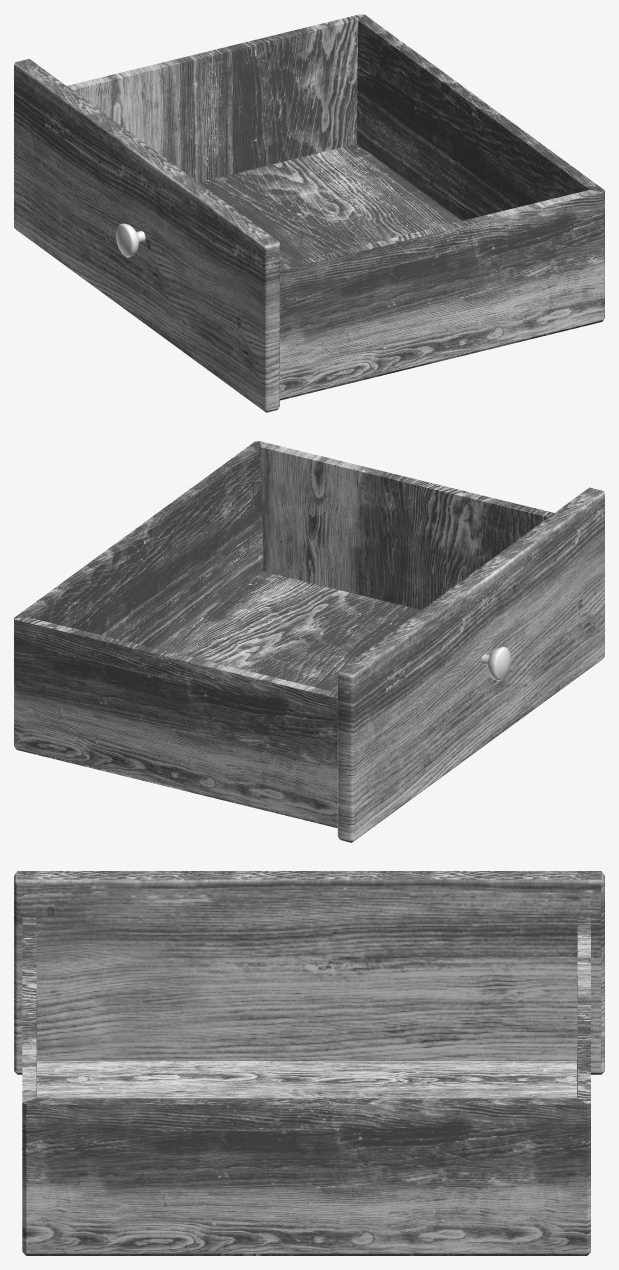
File: SM_Cabinet_C1_Door3.fbx
3 renders of one model, top to bottom at view 1: azimuth 30°, elevation 25°; view 2: azimuth 150°, elevation 25°; view 3: azimuth 270°, elevation 25°, orthographic. The views are drawn at different scales.
Parts seen in each view (by area): view 1: SM_Cabinet_C1_Door3; view 2: SM_Cabinet_C1_Door3; view 3: SM_Cabinet_C1_Door3.
Part boxes in pixels (bbox=[...]): SM_Cabinet_C1_Door3: bbox=[14, 14, 604, 412]; SM_Cabinet_C1_Door3: bbox=[14, 441, 604, 842]; SM_Cabinet_C1_Door3: bbox=[14, 871, 604, 1255].
Bounding box in the file's own units: 41.01 × 48.78 × 17.89.
Materials: 2 (2 with a texture image).
